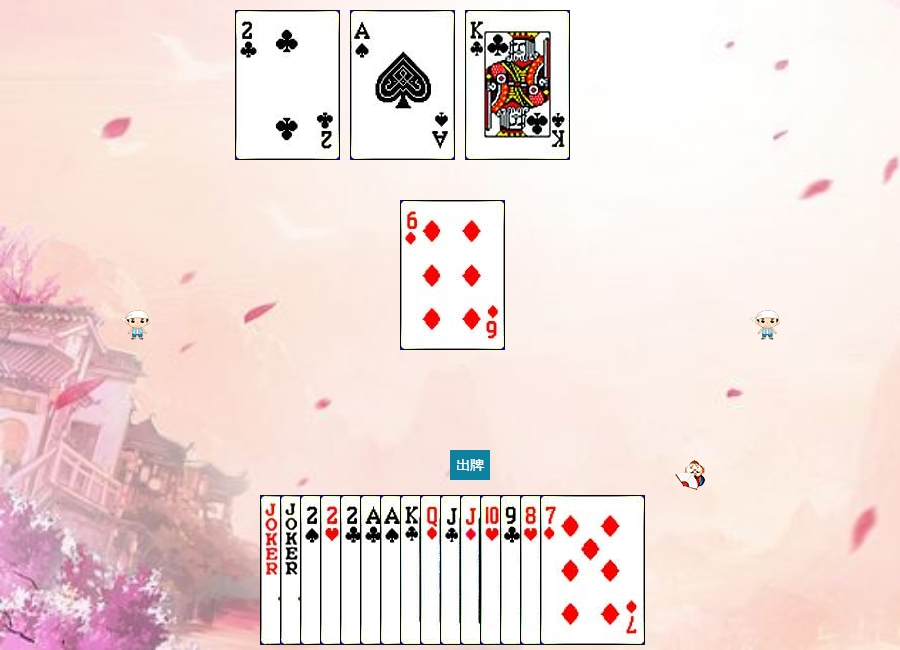10~3: (480, 495, 585, 645)
11~1: (460, 495, 565, 645)
11~2: (440, 495, 545, 645)
12~1: (420, 495, 525, 645)
13~2: (465, 10, 570, 160), (400, 495, 505, 645)
14~2: (360, 495, 465, 645)
14~4: (350, 10, 455, 160), (380, 495, 485, 645)
15~2: (235, 10, 340, 160), (340, 495, 445, 645)
15~3: (320, 495, 425, 645)
15~4: (300, 495, 405, 645)
17~3: (280, 495, 385, 645)
18~4: (260, 495, 365, 645)
6~1: (400, 200, 505, 350)
7~1: (540, 495, 645, 645)
8~3: (520, 495, 625, 645)
9~2: (500, 495, 605, 645)
